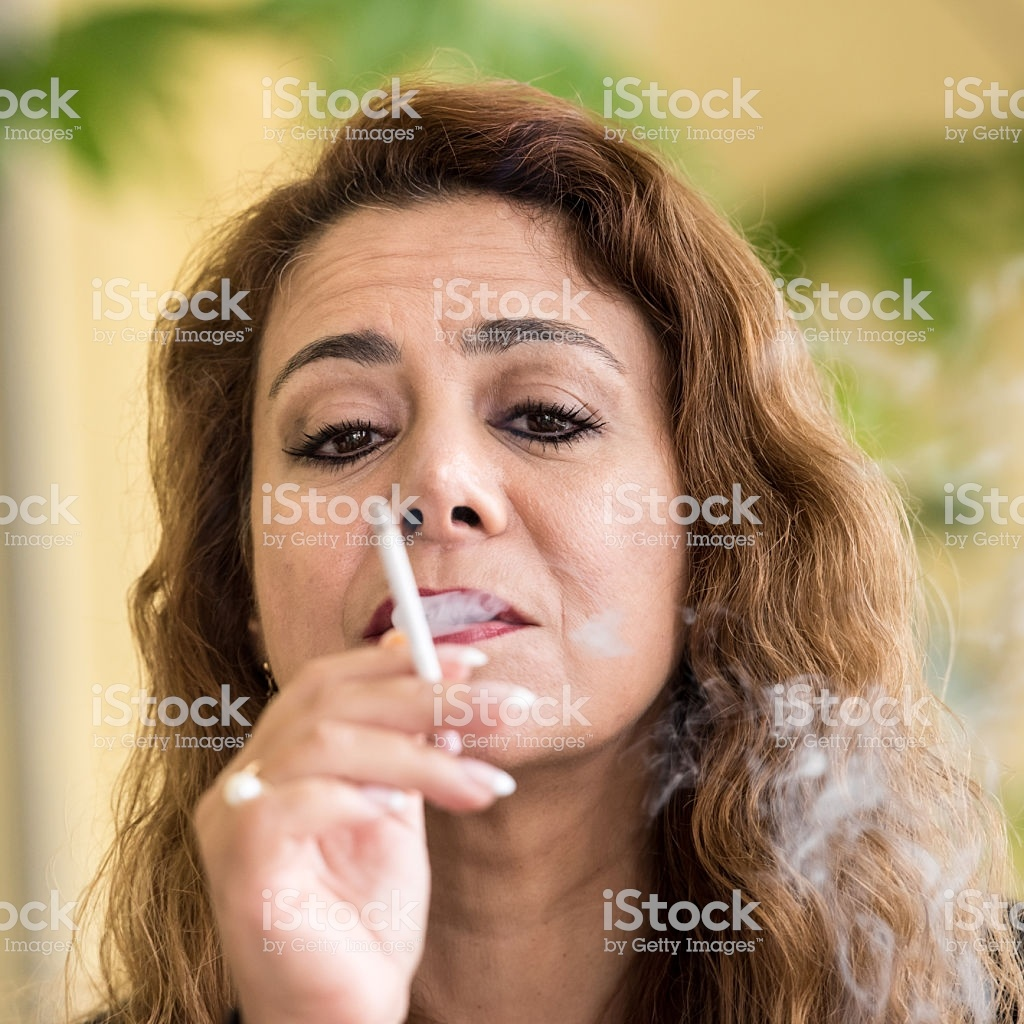sigaretta: (365, 499, 454, 710)
